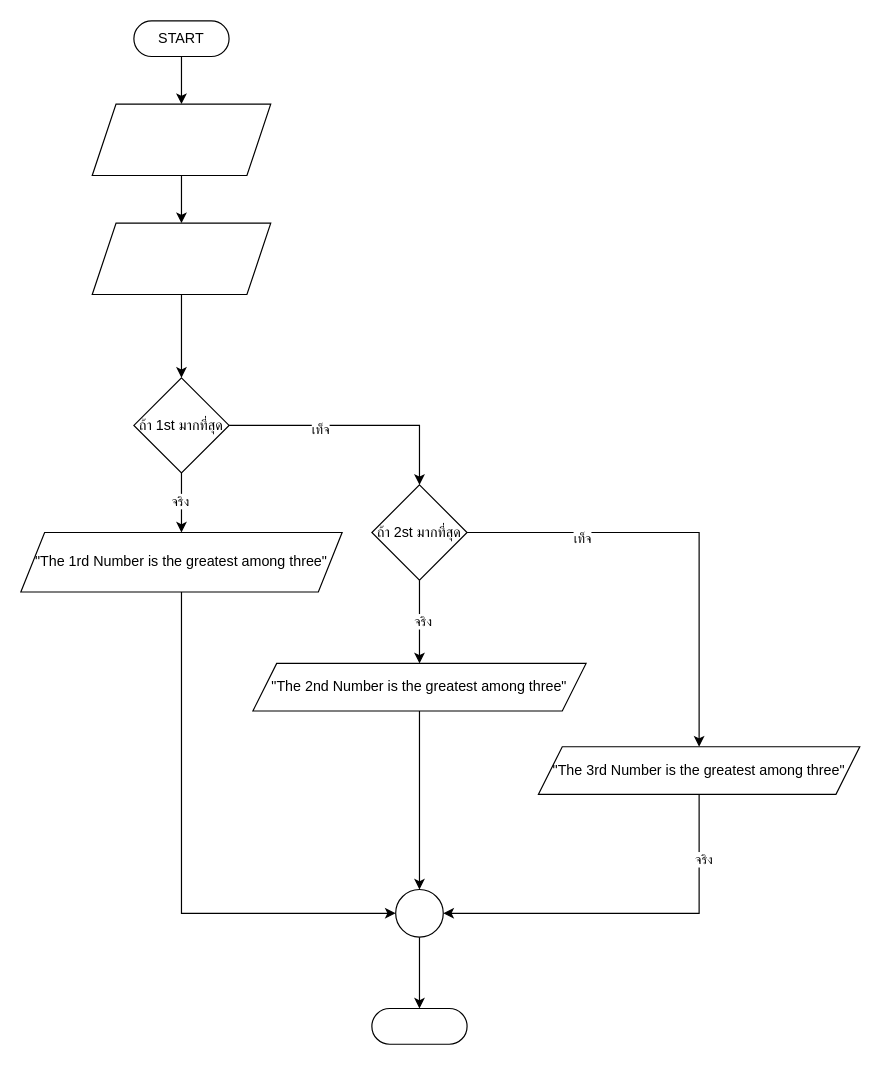
Image size: 881x1065. Some labels were removed from this diagram. The box of each missing label's shape, as (x1, y1, x2, y2) in pixels:
"1st Number = ค่าที่ 1 2nd Number = ค่าที่ 2 3rd Number = ค่าที่ 3": (91, 222, 271, 295)
"ใส่ค่าที่1 ค่าที่2 ค่าที่3": (91, 103, 271, 176)
END: (371, 1007, 467, 1044)
